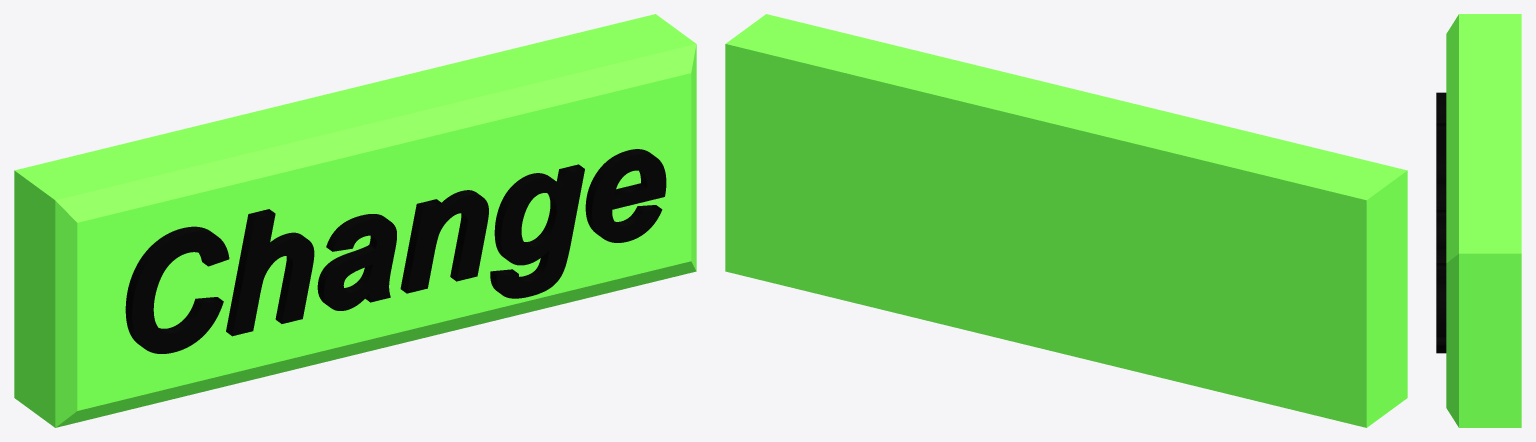
File: Change_button.fbx
The picture shows the model from 3 angles, left to right: view 1: azimuth 30°, elevation 25°; view 2: azimuth 150°, elevation 25°; view 3: azimuth 270°, elevation 25°; orthographic projection. The views are drawn at different scales.
Parts seen in each view (by area): view 1: Change_button; view 2: Change_button; view 3: Change_button.
Boxes of the visible parts, x1,y1,x2,y2 form: Change_button: (14, 14, 696, 427); Change_button: (725, 14, 1407, 427); Change_button: (1436, 14, 1521, 427).
Bounding box in the file's own units: 555 × 188 × 83.27.
